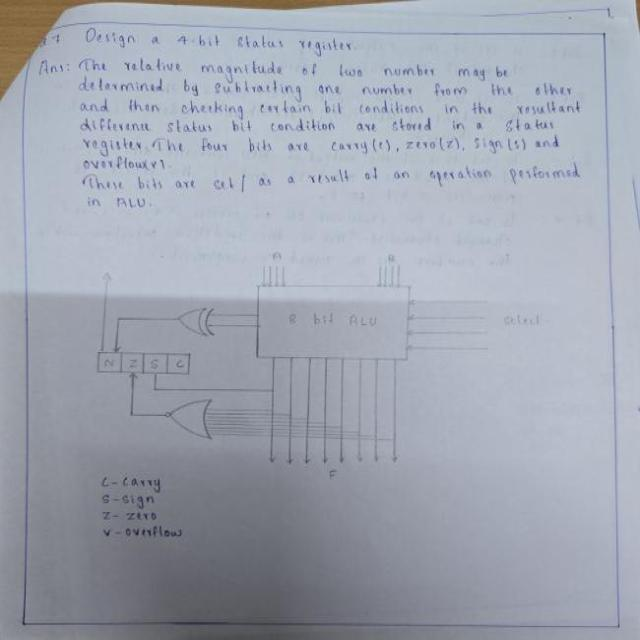Figure Detection - v3 Dataset Version2: (79, 247, 565, 486)
